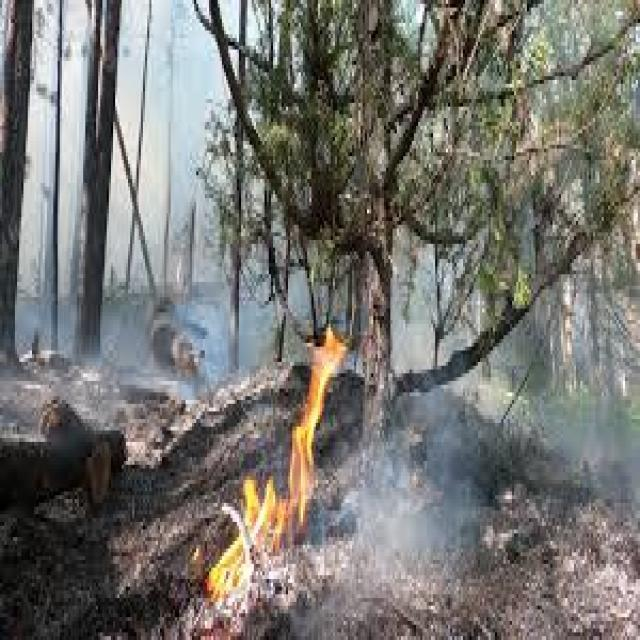Fire: (210, 312, 346, 602)
Smoke: (504, 348, 638, 486), (391, 405, 468, 580)
